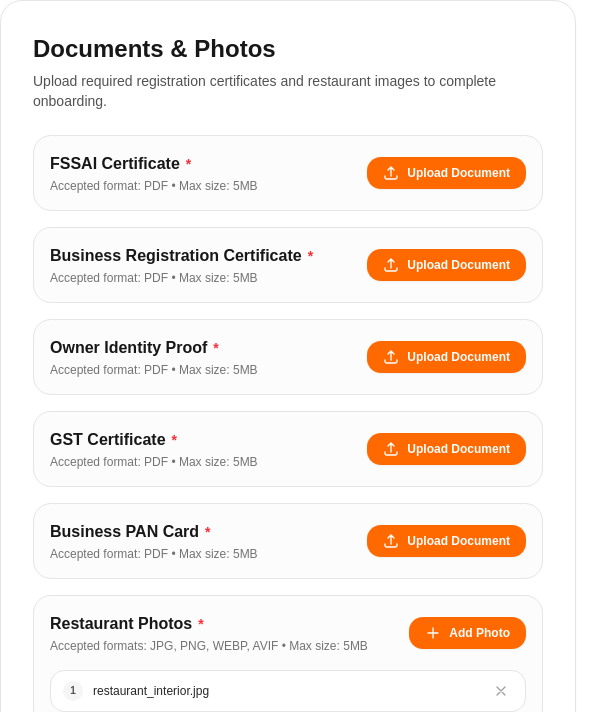
Test: DocumentsPage › deletes photo from S3 and removes it from state when user clicks remove
Expected: the text "restaurant_interior.jpg" is shown, [93,683,209,699]
Click the button named "remove photo restaurant_interior.jpg". click: (501, 691)
box: [489,679,513,703]
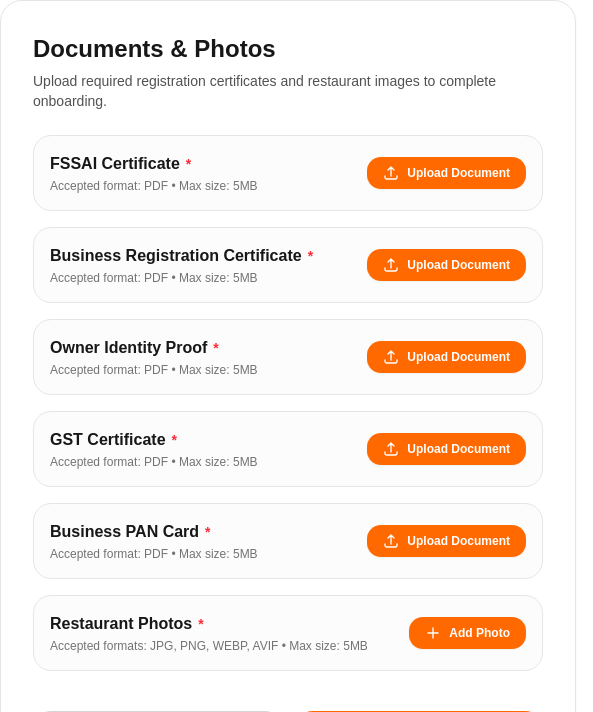
Now the text "restaurant_interior.jpg" is gone
